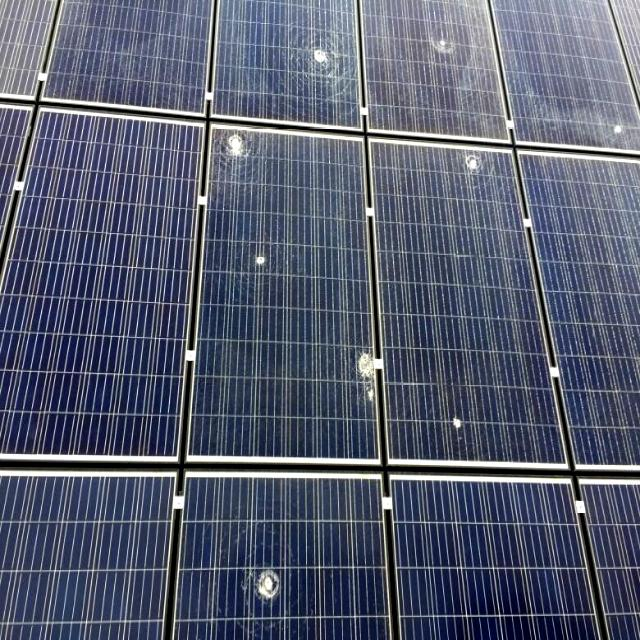hotspot: (238, 524, 308, 624), (342, 327, 392, 440), (298, 9, 352, 90), (434, 380, 496, 442), (240, 227, 284, 286), (214, 116, 254, 176), (434, 23, 474, 82), (458, 146, 503, 194), (606, 116, 640, 155)
